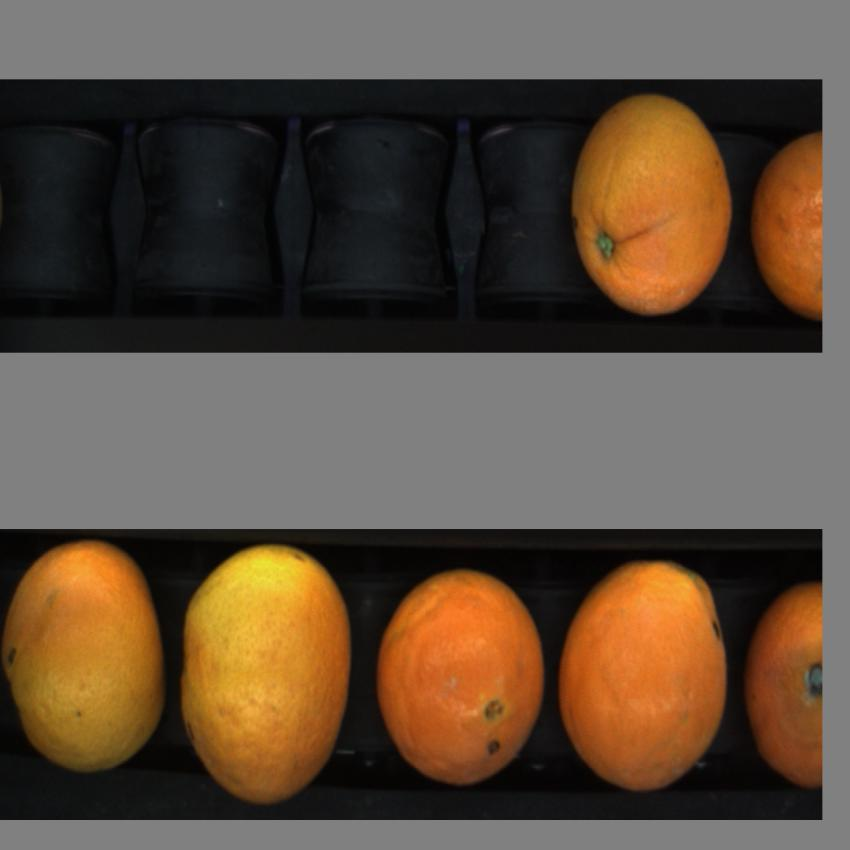Buen estado: (178, 538, 355, 817), (554, 557, 735, 801), (371, 556, 550, 801), (1, 537, 172, 782), (567, 93, 736, 323)
Mal estado: (740, 568, 823, 795), (750, 122, 825, 329)
